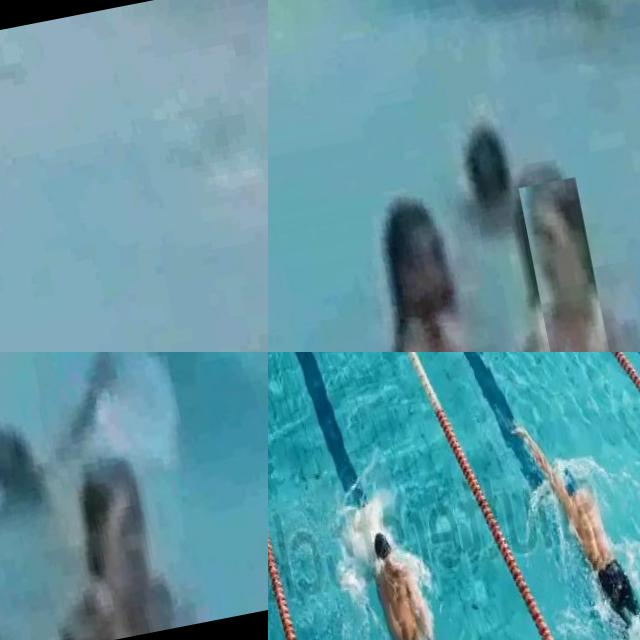drowning: (0, 352, 130, 504), (434, 102, 516, 216)
swimming: (501, 377, 640, 640), (350, 493, 479, 640), (516, 177, 616, 352), (72, 472, 173, 640), (368, 204, 471, 352)
